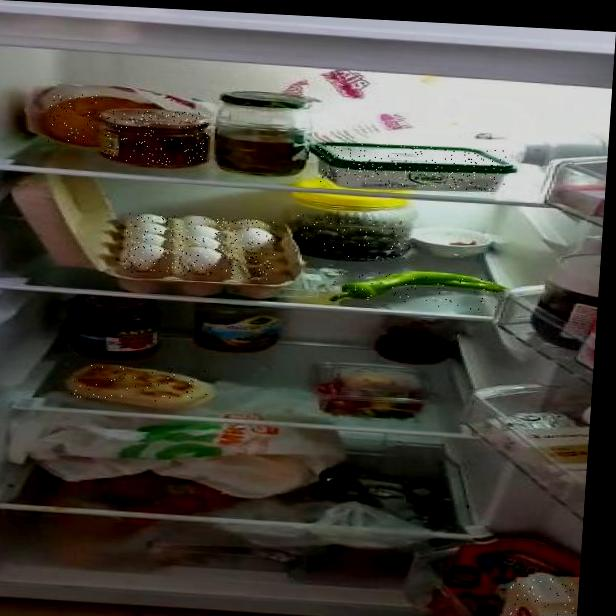bazlama: (71, 363, 210, 405)
bread: (48, 93, 104, 145)
cream cheese: (316, 141, 507, 192)
eggs: (123, 213, 277, 280)
green chilies: (333, 270, 501, 311)
milk: (506, 572, 580, 616)
olives: (294, 215, 408, 260)
tomato paste: (103, 108, 210, 167)
